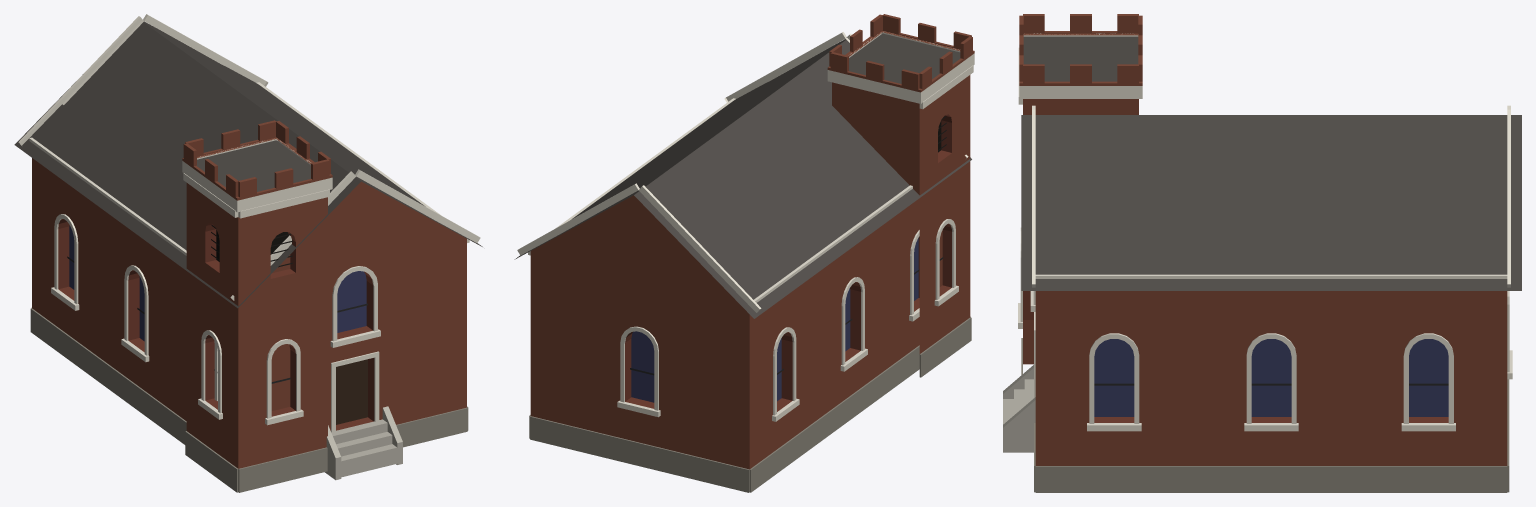
Rendered from ch-allison-presbyterian-1961.glb.
3 renders of one model, left to right at view 1: azimuth 30°, elevation 25°; view 2: azimuth 150°, elevation 25°; view 3: azimuth 270°, elevation 25°, orthographic. The views are drawn at different scales.
Parts seen in each view (by area): view 1: ch_brick, ch_roof, ch_trim, ch_base, ch_brick2, ch_conc, ch_roof2, ch_stain, ch_door; view 2: ch_brick, ch_roof, ch_trim, ch_base, ch_brick2, ch_roof2, ch_stain; view 3: ch_roof, ch_brick, ch_base, ch_trim, ch_stain, ch_roof2, ch_conc, ch_brick2.
Boxes of the visible parts, x1,y1,x2,y2 form: ch_brick: (32,120,466,468); ch_roof: (14,21,482,308); ch_trim: (18,14,480,432); ch_base: (30,307,468,492); ch_brick2: (58,219,374,430); ch_conc: (325,406,402,480); ch_roof2: (196,140,310,191); ch_stain: (69,225,366,341); ch_door: (336,359,367,424); ch_brick: (530,14,974,469); ch_roof: (514,39,971,318); ch_trim: (517,32,974,421); ch_base: (529,316,971,492); ch_brick2: (625,114,951,411); ch_roof2: (849,33,960,83); ch_stain: (631,238,918,402); ch_roof: (1021,115,1521,290); ch_brick: (1019,14,1507,465); ch_base: (1021,338,1509,492); ch_trim: (1018,33,1512,431); ch_stain: (1094,339,1448,416); ch_roof2: (1023,36,1138,81); ch_conc: (1003,365,1035,452); ch_brick2: (1023,291,1448,422).
Bounding box in the file's own units: 8.92 × 10.7 × 14.3.
